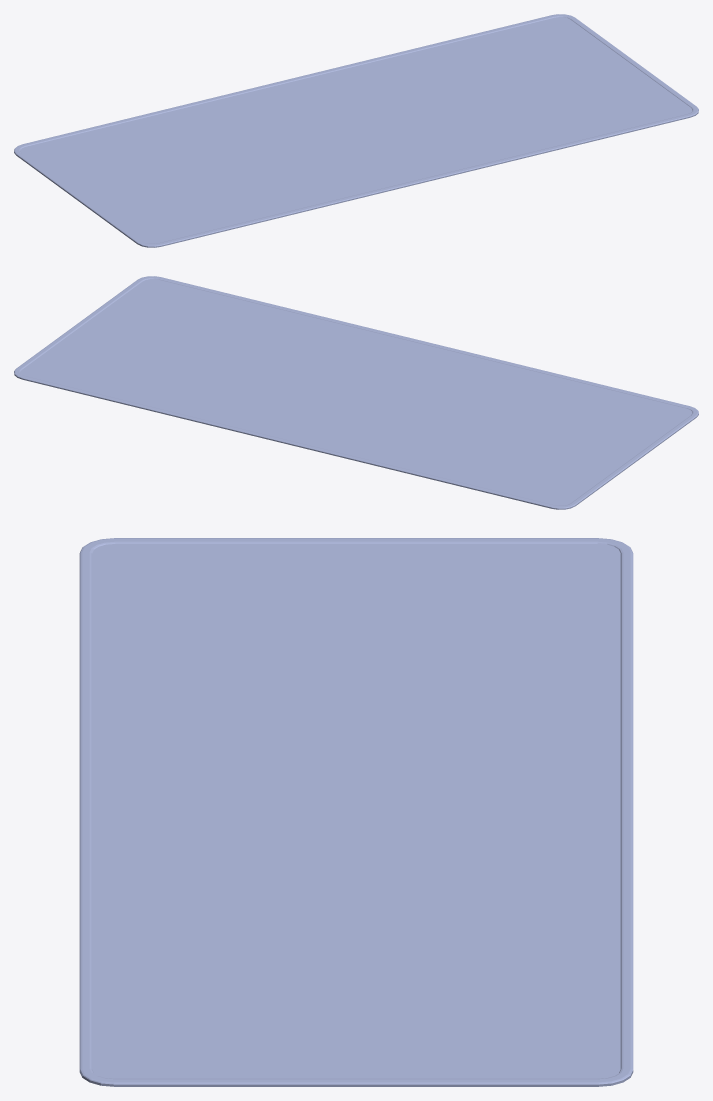
File: deskmat.glb
3 views of the same model, one above another, from view 1: azimuth 30°, elevation 25°; view 2: azimuth 150°, elevation 25°; view 3: azimuth 270°, elevation 25° (orthographic). The views are drawn at different scales.
Parts seen in each view (by area): view 1: deskmat; view 2: deskmat; view 3: deskmat.
Boxes of the visible parts, left/top/right/bottom form: deskmat: left=14, top=14, right=698, bottom=247; deskmat: left=14, top=276, right=698, bottom=509; deskmat: left=79, top=538, right=633, bottom=1086.
Size of the model in its own units: 0.7 by 0.00197 by 0.3.
